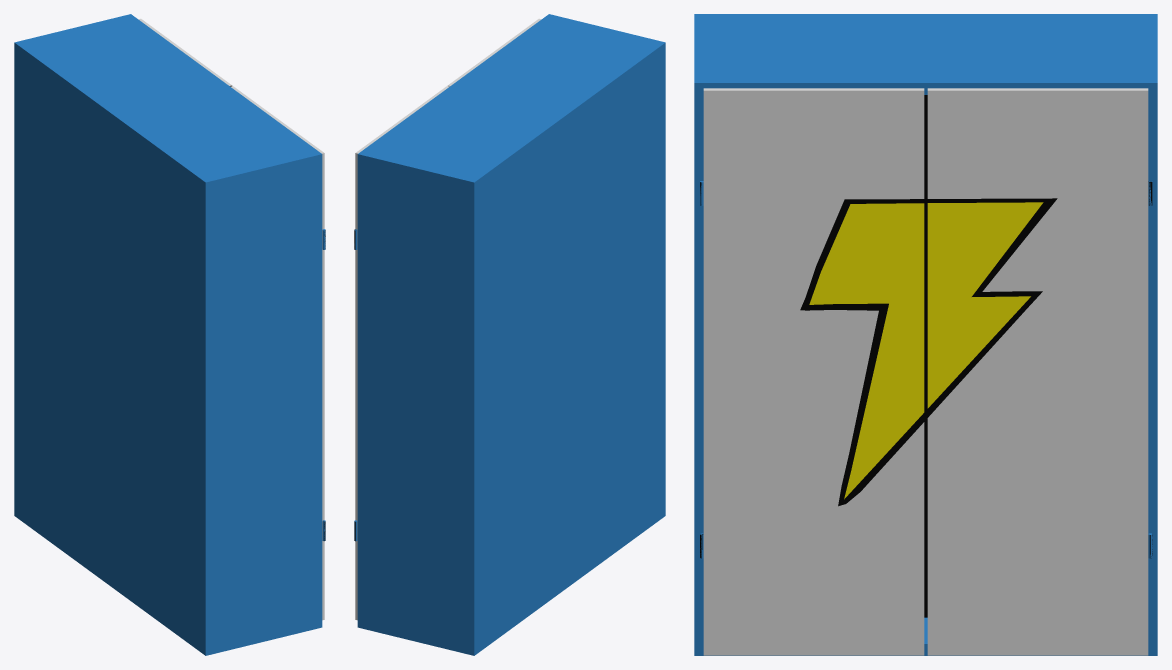
The model's file is Electrical.fbx.
3 views of the same model, side by side, from view 1: azimuth 30°, elevation 25°; view 2: azimuth 150°, elevation 25°; view 3: azimuth 270°, elevation 25° (orthographic). The views are drawn at different scales.
Parts seen in each view (by area): view 1: Cube; view 2: Cube; view 3: Cube.
Part boxes in pixels (box(x1,y1,x2,y2)): Cube: box(14, 14, 325, 655); Cube: box(354, 14, 665, 655); Cube: box(694, 14, 1157, 655).
Size of the model in its own units: 63.98 by 235 by 173.
